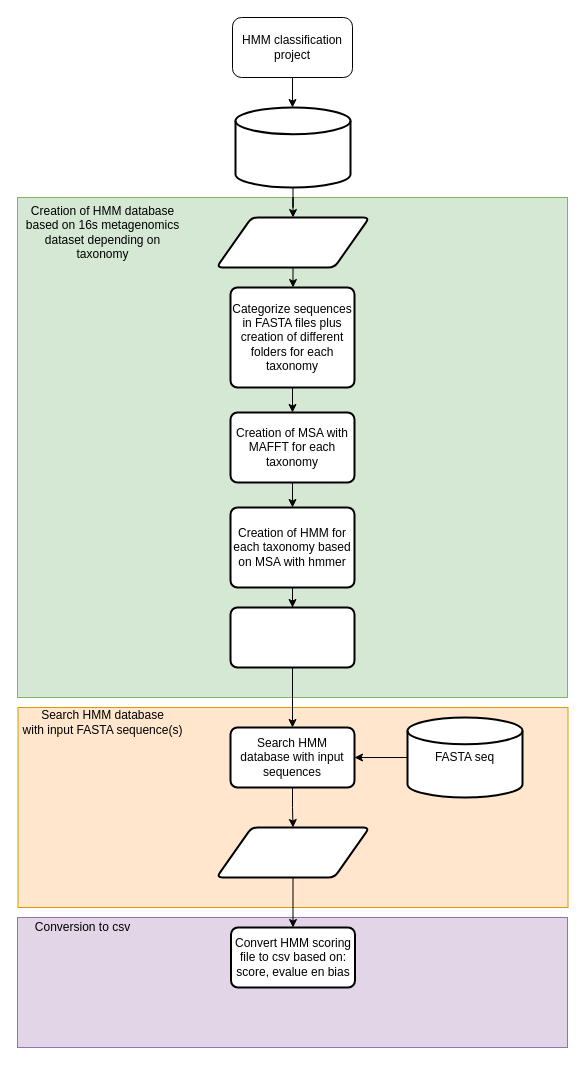
The diagram is 586 pixels wide and 1065 high, and some of its shapes have lost their labels. Here are the shapes that lost their labels. From the top down, the centre of each, then its label:
At [292,147]: "16S metagenomics data".
At [292,242]: "Input: which type of taxonomy?".
At [292,637]: "Join all HMMs in one database".
At [292,852]: "Output: HMM scan scoring file".
